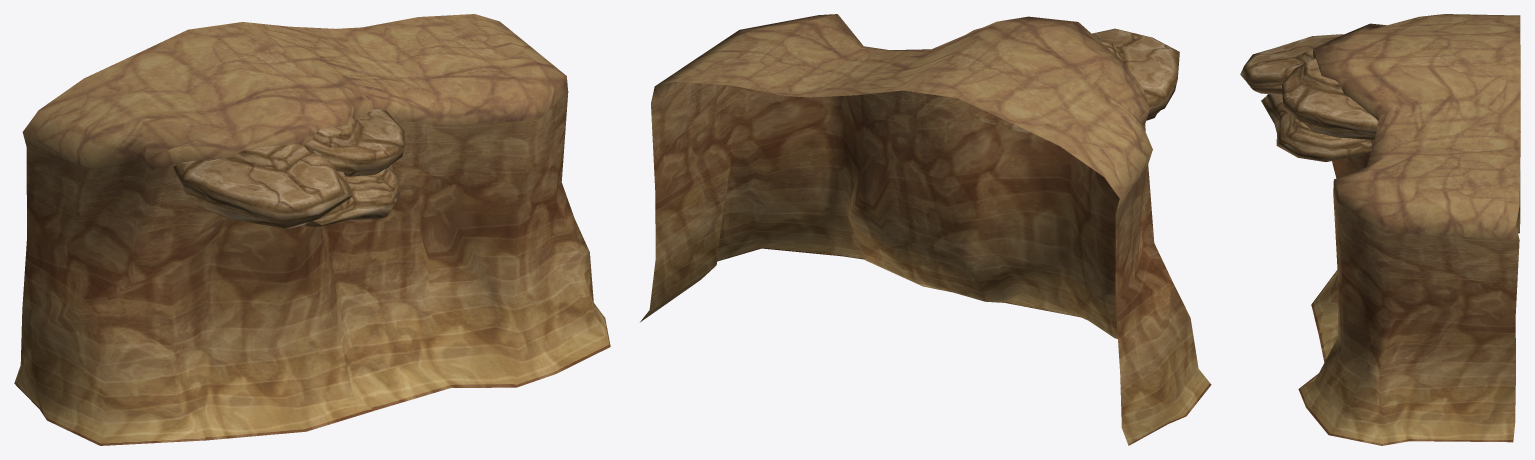
Rendered from desert cliff B.FBX.
3 views of the same model, side by side, from view 1: azimuth 30°, elevation 25°; view 2: azimuth 150°, elevation 25°; view 3: azimuth 270°, elevation 25° (orthographic). The views are drawn at different scales.
Visible parts, largest first — view 1: desert cliff B; view 2: desert cliff B; view 3: desert cliff B.
Boxes of the visible parts, x1,y1,x2,y2 form: desert cliff B: (14, 14, 610, 445); desert cliff B: (640, 14, 1211, 445); desert cliff B: (1240, 14, 1520, 445).
Bounding box in the file's own units: 28.09 × 15.99 × 15.27.
